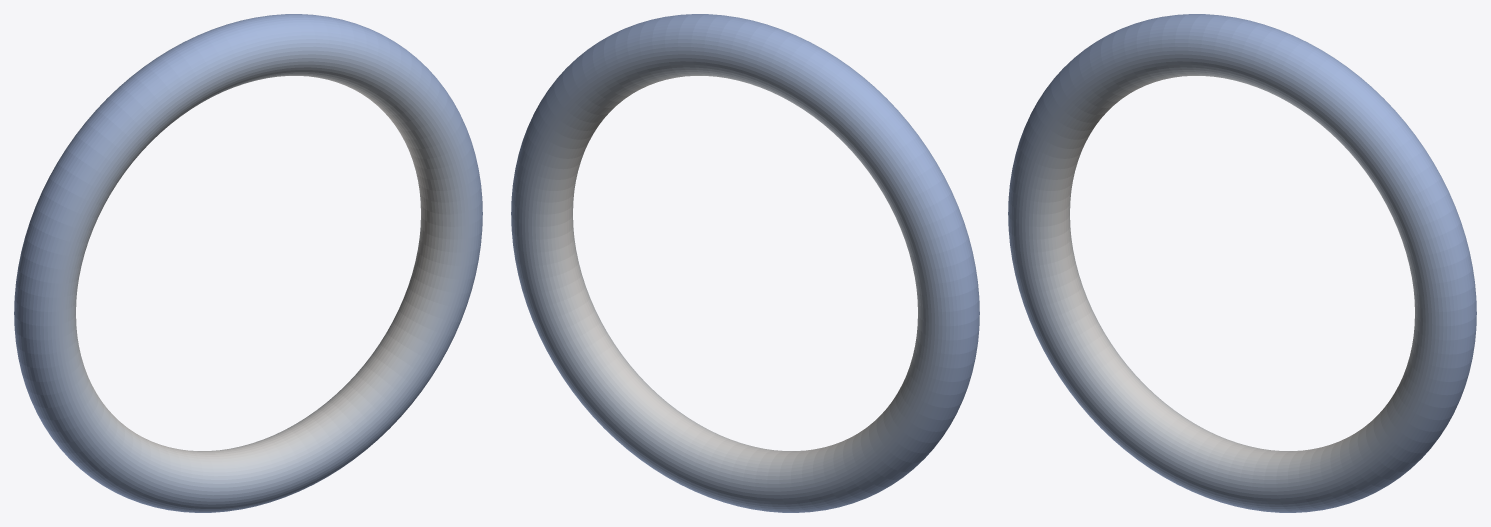
3 views of the same model, side by side, from view 1: azimuth 30°, elevation 25°; view 2: azimuth 150°, elevation 25°; view 3: azimuth 330°, elevation 25° (orthographic).
Visible parts, largest first — view 1: world; view 2: world; view 3: world.
Part boxes in pixels (x1=…): world: x1=14, y1=14, x2=482, y2=512; world: x1=511, y1=14, x2=979, y2=512; world: x1=1008, y1=14, x2=1476, y2=512.
Bounding box in the file's own units: 30.93 × 30.93 × 3.59.
